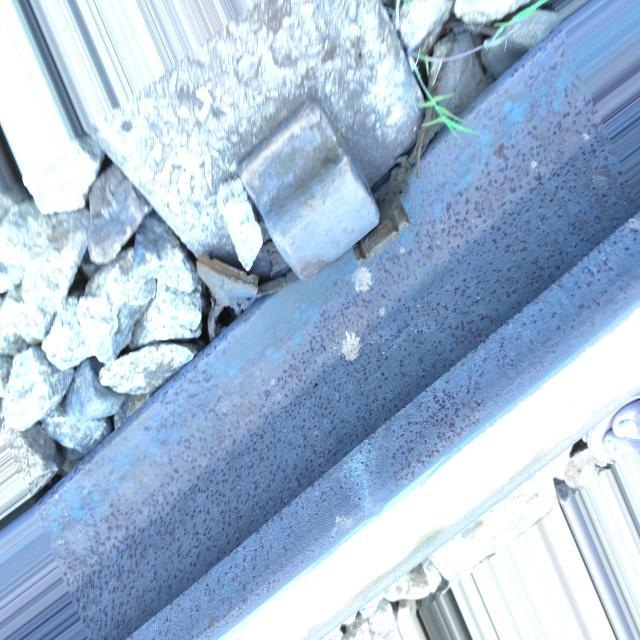Missing Fastener: (211, 96, 399, 284)
